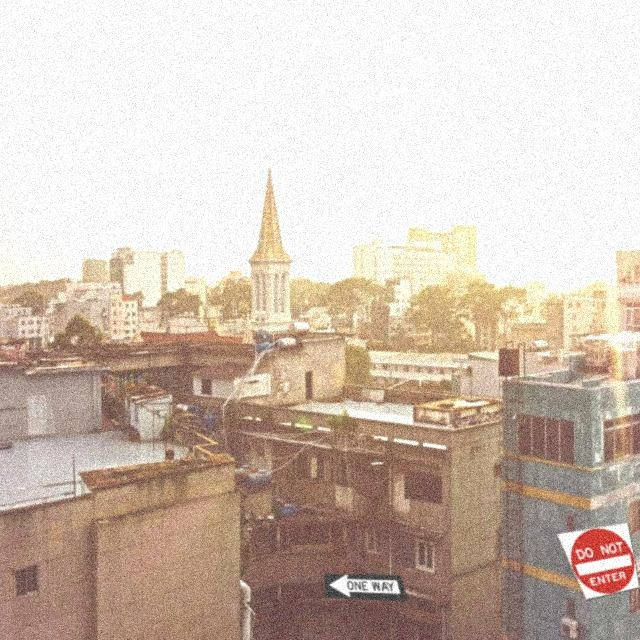DO_NOT_ENTER: (556, 522, 640, 600)
ONE_WAY_ left: (324, 573, 408, 601)
